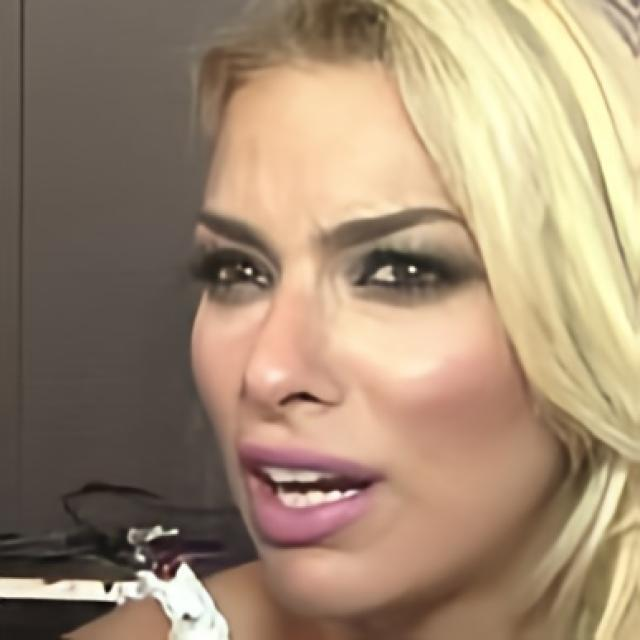disgust: (188, 54, 558, 620)
